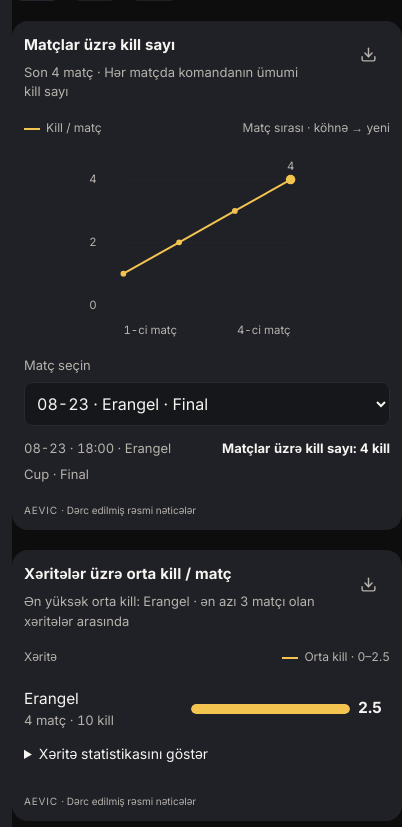
Test case: keeps chart units readable when resized and lets touch controls select exact matches
(page scrolled)
Step 1. Select "08-23 · Erangel · Final" in the dropdown labelled "Matç seçin" → (207, 404), box [24,382,390,426]
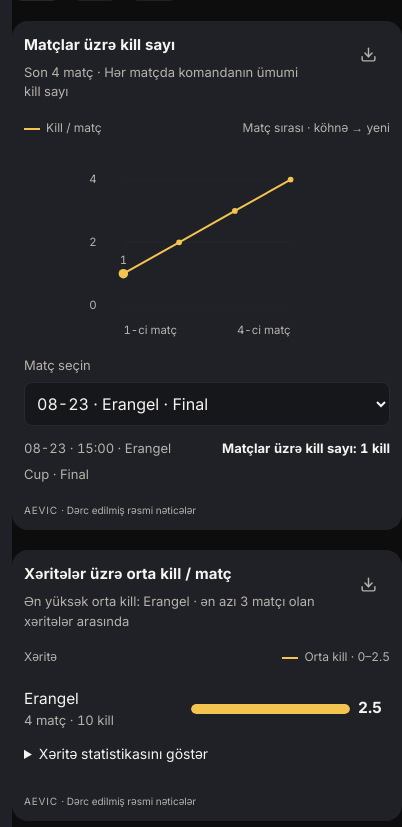
Now the text "Matçlar üzrə kill sayı: 1 kill" is shown, box [222,438,390,462]
